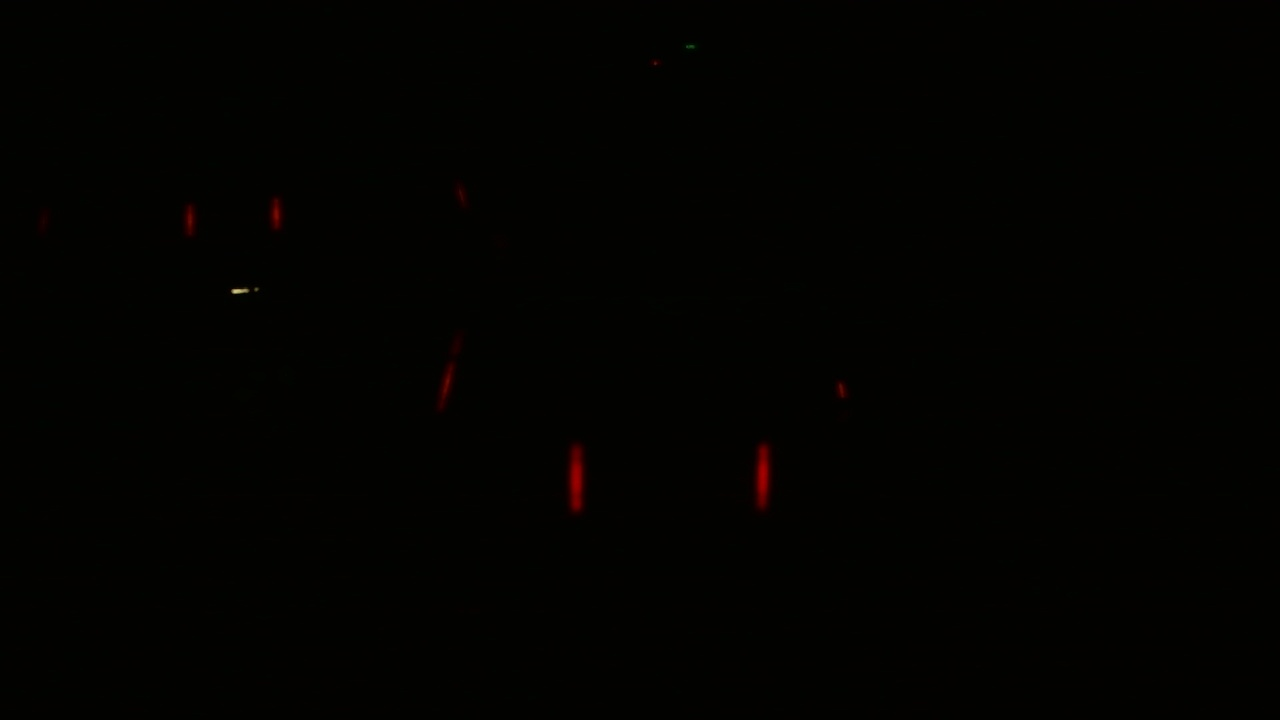pair1: (563, 434, 776, 519), (179, 189, 286, 239)
